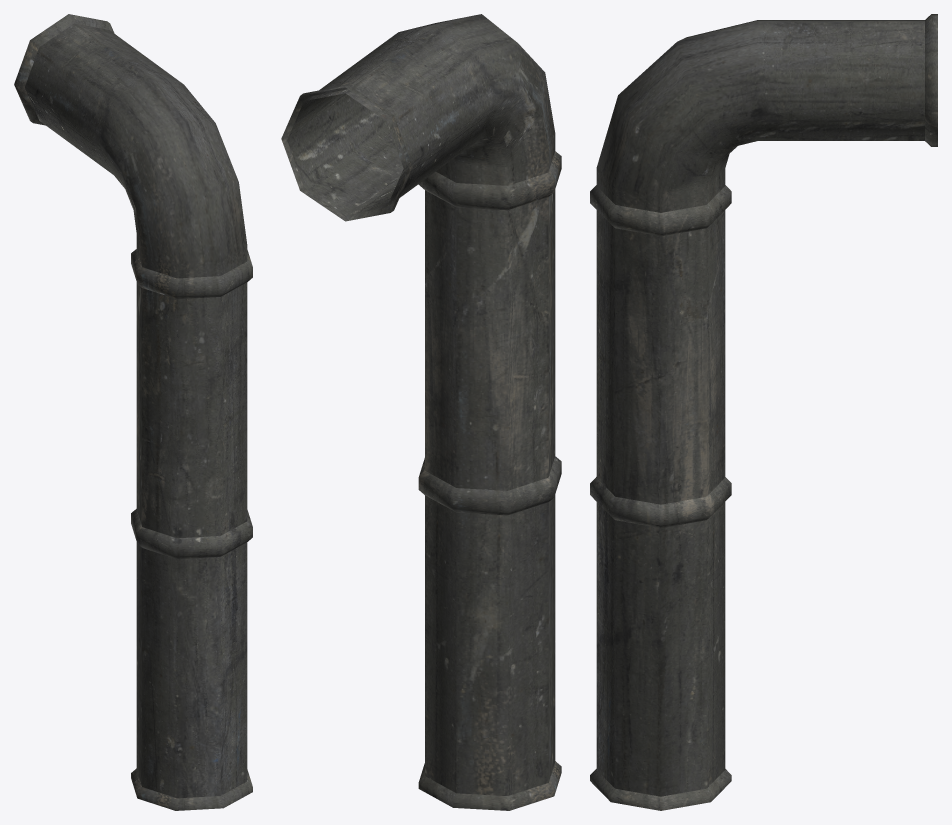
File: SM_Corridor_Pipe_Set_Gray_B.fbx
The picture shows the model from 3 angles, left to right: view 1: azimuth 30°, elevation 25°; view 2: azimuth 150°, elevation 25°; view 3: azimuth 270°, elevation 25°; orthographic projection. The views are drawn at different scales.
Visible parts, largest first — view 1: SM_Corridor_Pipe_Set_Gray_B; view 2: SM_Corridor_Pipe_Set_Gray_B; view 3: SM_Corridor_Pipe_Set_Gray_B.
Boxes of the visible parts, x1,y1,x2,y2 form: SM_Corridor_Pipe_Set_Gray_B: [14, 14, 252, 810]; SM_Corridor_Pipe_Set_Gray_B: [281, 14, 561, 810]; SM_Corridor_Pipe_Set_Gray_B: [590, 14, 937, 810].
Size of the model in its own units: 22 by 131 by 54.
